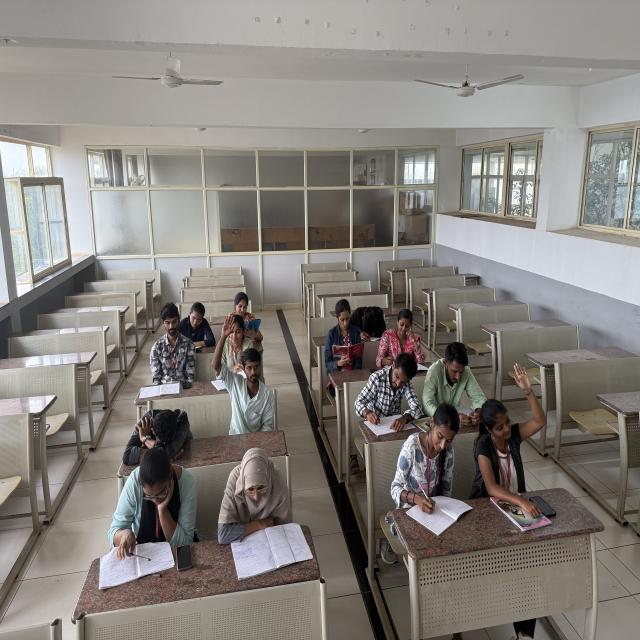Hand Rising: (481, 358, 545, 506), (210, 306, 280, 430)
Reading: (213, 444, 307, 574), (134, 302, 194, 398), (422, 342, 484, 412), (323, 295, 366, 376), (212, 312, 249, 385), (229, 288, 268, 344)
Sleeping: (120, 396, 191, 468), (349, 305, 390, 339)
Writing: (109, 440, 198, 578), (390, 399, 468, 529), (351, 348, 422, 429), (373, 308, 434, 368), (176, 299, 217, 348)
